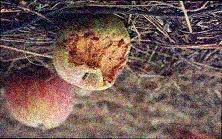rotten apple: (52, 13, 140, 92)
